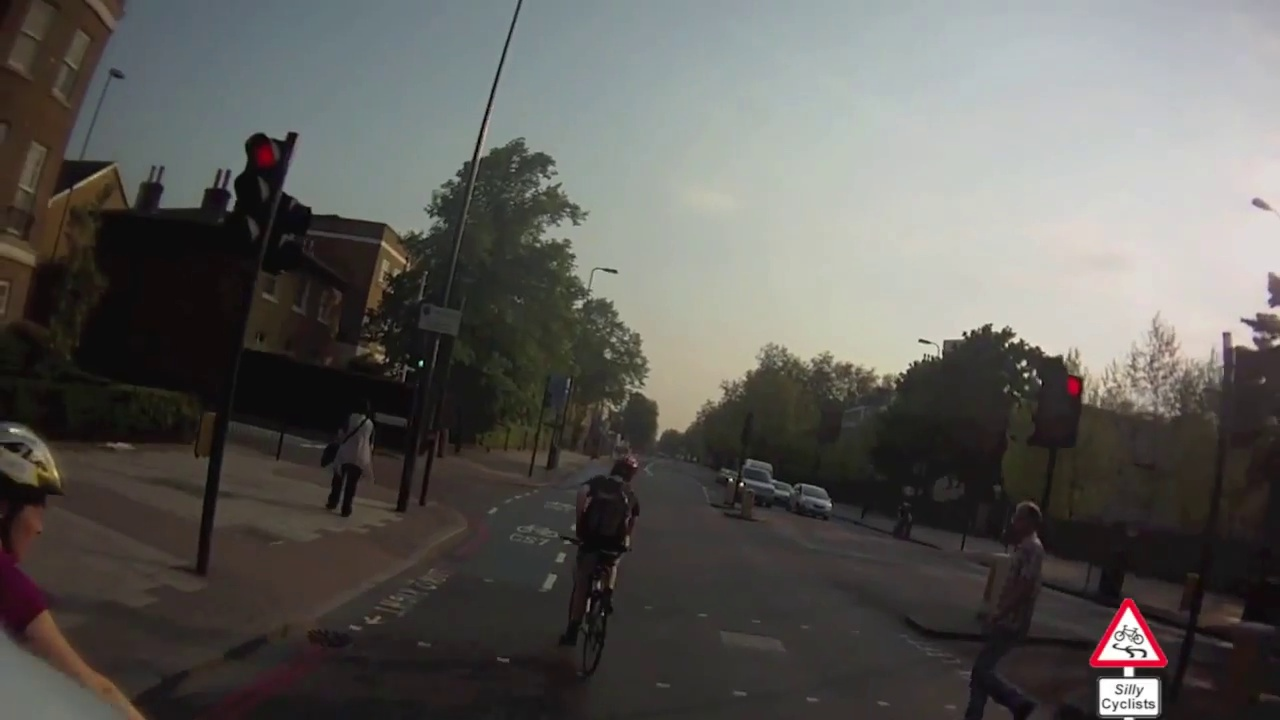cyclist_back: (562, 439, 632, 685)
